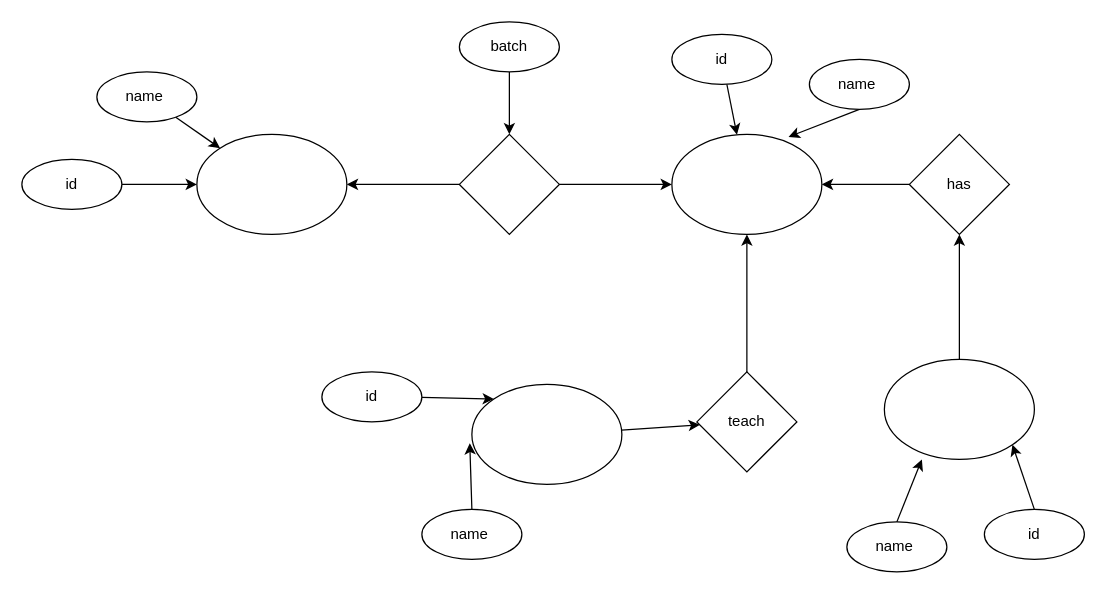
Image size: 1106x594. Some labels were removed from this diagram. Each missing label, with the centre of its shape:
"category" belongs at (958,408).
"course" belongs at (746,183).
"follow" belongs at (508,183).
"student" belongs at (271,183).
"teachers" belongs at (546,433).
